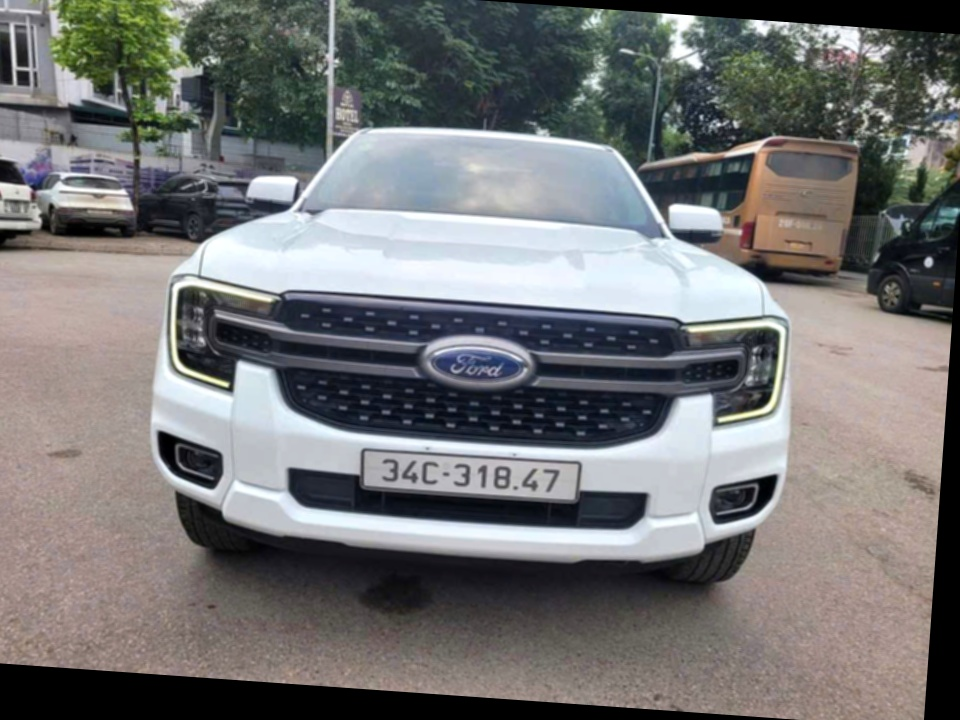Bien-so: (371, 481, 596, 538)
